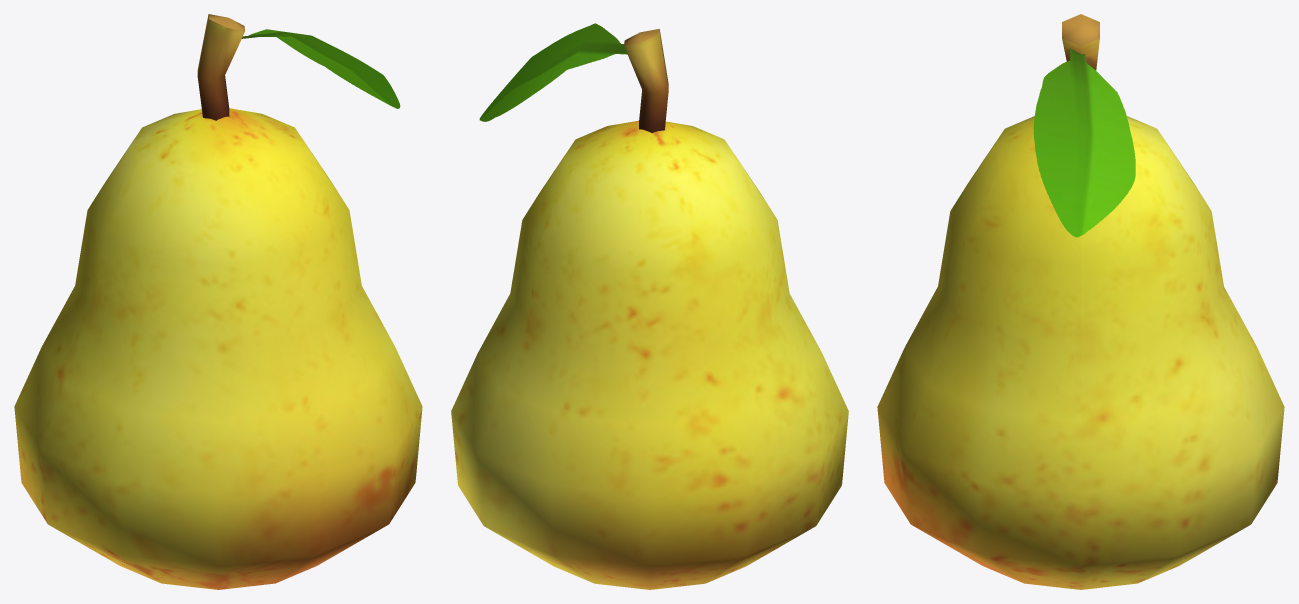
File: SE_Pear_01.fbx
The picture shows the model from 3 angles, left to right: view 1: azimuth 30°, elevation 25°; view 2: azimuth 150°, elevation 25°; view 3: azimuth 270°, elevation 25°; orthographic projection. The views are drawn at different scales.
Visible parts, largest first — view 1: SE_Pear_01; view 2: SE_Pear_01; view 3: SE_Pear_01.
Part boxes in pixels (left/top/right/bottom): SE_Pear_01: left=14, top=14, right=422, bottom=589; SE_Pear_01: left=451, top=23, right=848, bottom=589; SE_Pear_01: left=877, top=14, right=1284, bottom=589.
Size of the model in its own units: 1.04 by 1.43 by 1.01.
